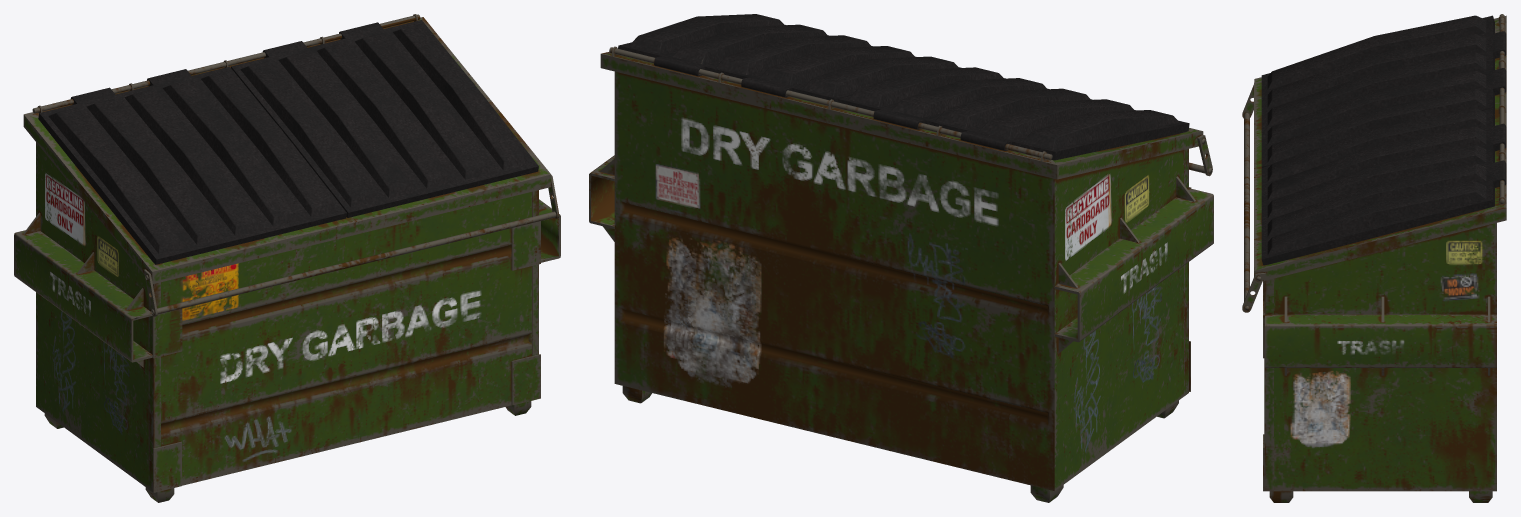
Rendered from dumpster.glb.
The picture shows the model from 3 angles, left to right: view 1: azimuth 30°, elevation 25°; view 2: azimuth 150°, elevation 25°; view 3: azimuth 270°, elevation 25°; orthographic projection. The views are drawn at different scales.
Visible parts, largest first — view 1: Dumpster_low_M_Dumpster_0_5; view 2: Dumpster_low_M_Dumpster_0_5; view 3: Dumpster_low_M_Dumpster_0_5.
Part boxes in pixels (left/top/right/bottom): Dumpster_low_M_Dumpster_0_5: left=14, top=14, right=560, bottom=502; Dumpster_low_M_Dumpster_0_5: left=589, top=14, right=1213, bottom=502; Dumpster_low_M_Dumpster_0_5: left=1242, top=14, right=1506, bottom=502.
Size of the model in its own units: 2 by 1.4 by 1.08.
Materials: 1 (1 with a texture image).
